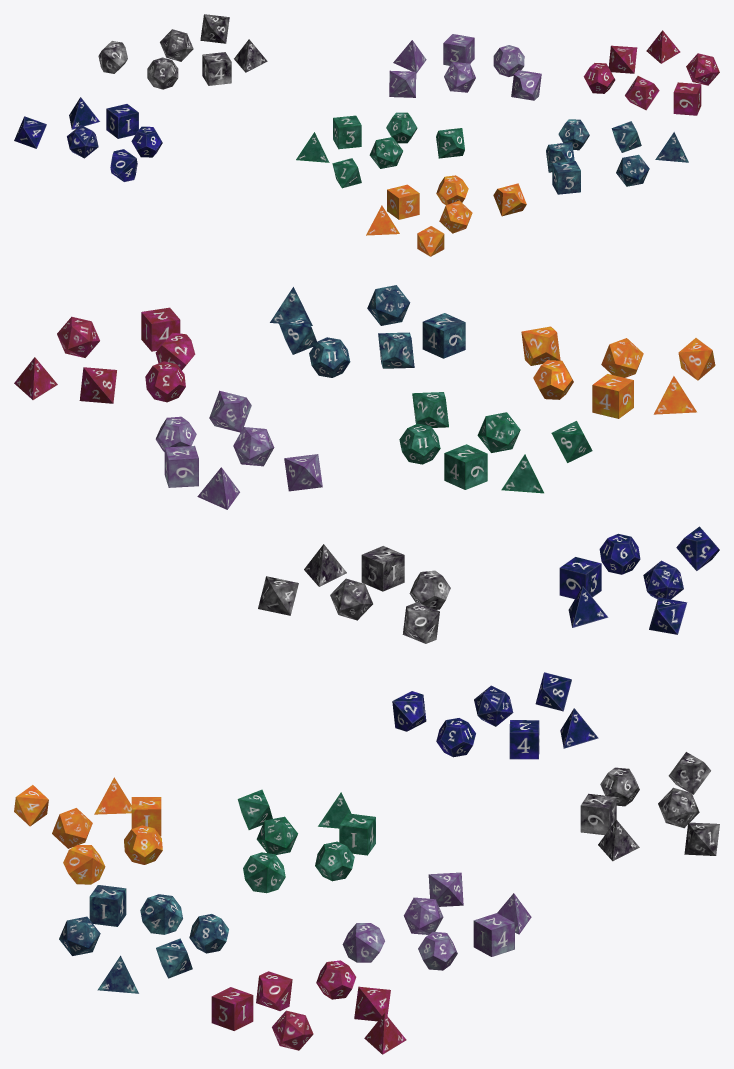
The model's file is rpg_dice_set.glb.
3 renders of one model, top to bottom at view 1: azimuth 30°, elevation 25°; view 2: azimuth 150°, elevation 25°; view 3: azimuth 270°, elevation 25°, orthographic. The views are drawn at different scales.
Visible parts, largest first — view 1: LP.060, LP.056, LP.050, LP.025, LP.035, LP.009, LP.032, LP.048, LP.030, LP.031, LP.059, LP (+30 smaller); view 2: LP.009, LP.025, LP.050, LP.060, LP.056, LP.032, LP.037, LP.054, LP.019, LP.008, LP.035, LP.007 (+30 smaller); view 3: LP.035, LP.032, LP.009, LP.011, LP.017, LP.050, LP.025, LP.031, LP.059, LP.056, LP.058, LP.008 (+29 smaller).
Boxes of the visible parts, x1,y1,x2,y2 form: LP.060: [387, 184, 419, 219]; LP.056: [106, 104, 138, 138]; LP.050: [202, 52, 231, 85]; LP.025: [333, 115, 361, 149]; LP.035: [673, 82, 701, 115]; LP.009: [552, 161, 580, 194]; LP.032: [443, 34, 474, 65]; LP.048: [147, 57, 178, 89]; LP.030: [493, 45, 524, 76]; LP.031: [511, 70, 541, 100]; LP.059: [493, 183, 526, 216]; LP: [616, 154, 649, 186]; LP.009: [422, 313, 465, 358]; LP.025: [444, 444, 487, 489]; LP.050: [361, 546, 404, 591]; LP.060: [592, 374, 633, 418]; LP.056: [559, 557, 601, 599]; LP.032: [164, 445, 198, 487]; LP.037: [145, 361, 185, 402]; LP.054: [599, 533, 640, 574]; LP.019: [309, 337, 350, 377]; LP.008: [399, 423, 440, 464]; LP.035: [141, 307, 180, 351]; LP.007: [477, 412, 520, 452]; LP.035: [211, 987, 253, 1030]; LP.032: [473, 913, 514, 956]; LP.009: [89, 885, 126, 926]; LP.011: [243, 852, 285, 893]; LP.017: [140, 894, 182, 934]; LP.050: [580, 793, 616, 835]; LP.025: [339, 813, 375, 855]; LP.031: [342, 923, 384, 962]; LP.059: [63, 845, 105, 884]; LP.056: [509, 720, 539, 759]; LP.058: [124, 825, 162, 864]; LP.008: [315, 841, 354, 881].
Bounding box in the file's own units: 25.18 × 1.09 × 21.02.
7 materials, 7 textured.
